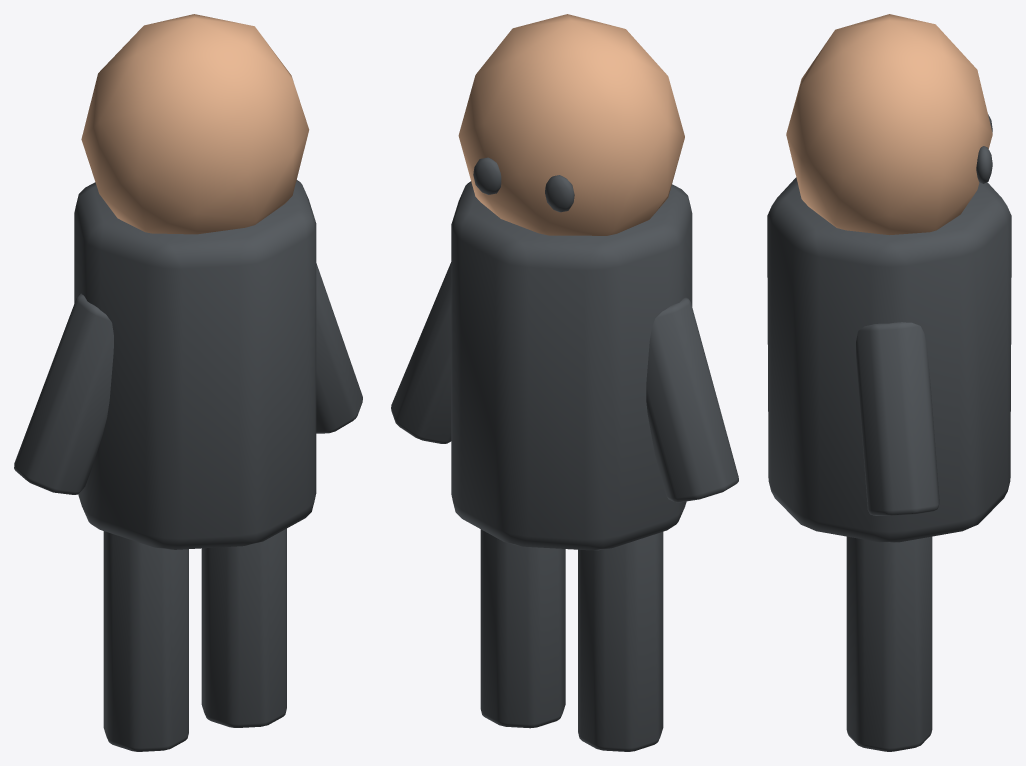
File: knight.glb
3 renders of one model, left to right at view 1: azimuth 30°, elevation 25°; view 2: azimuth 150°, elevation 25°; view 3: azimuth 270°, elevation 25°, orthographic.
Visible parts, largest first — view 1: knight_torso, knight_head, knight, knight_leg_-1, knight_arm_-1; view 2: knight_torso, knight_head, knight, knight_leg_-1, knight_arm_-1, knight_eye_L, knight_eye_R; view 3: knight_torso, knight_head, knight, knight_eye_R.
Boxes of the visible parts, x1,y1,x2,y2 form: knight_torso: (74,180,316,549); knight_head: (81,14,309,234); knight: (201,263,362,727); knight_leg_-1: (103,531,188,751); knight_arm_-1: (14,293,113,494); knight_torso: (451,181,692,550); knight_head: (458,14,684,235); knight: (391,262,565,728); knight_leg_-1: (578,532,663,751); knight_arm_-1: (646,297,738,502); knight_eye_L: (545,175,574,212); knight_eye_R: (473,157,501,194); knight_torso: (767,177,1011,542); knight_head: (786,14,992,235); knight: (846,322,939,751); knight_eye_R: (976,146,992,183).
Size of the model in its own units: 1.03 by 2.07 by 0.6628.
